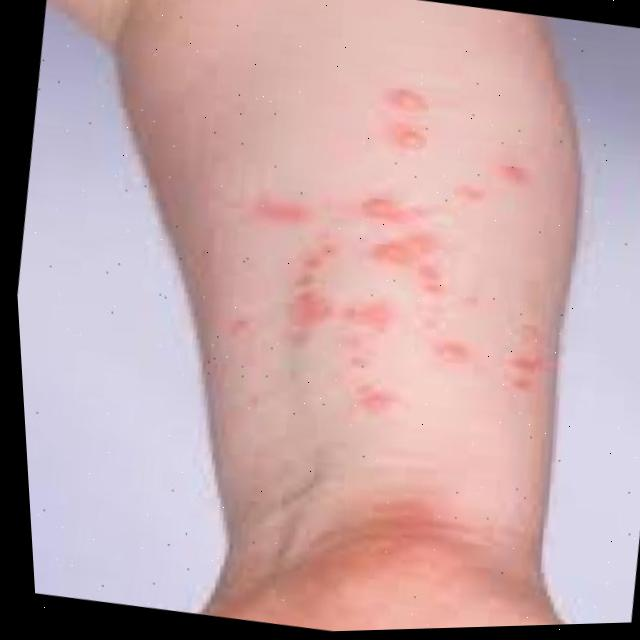Shingles: (206, 54, 578, 445)
